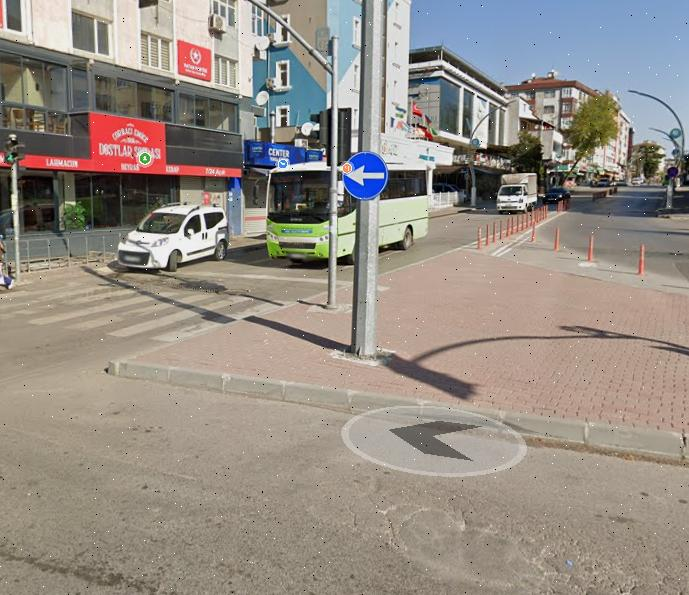turnleft: (342, 149, 387, 199)
